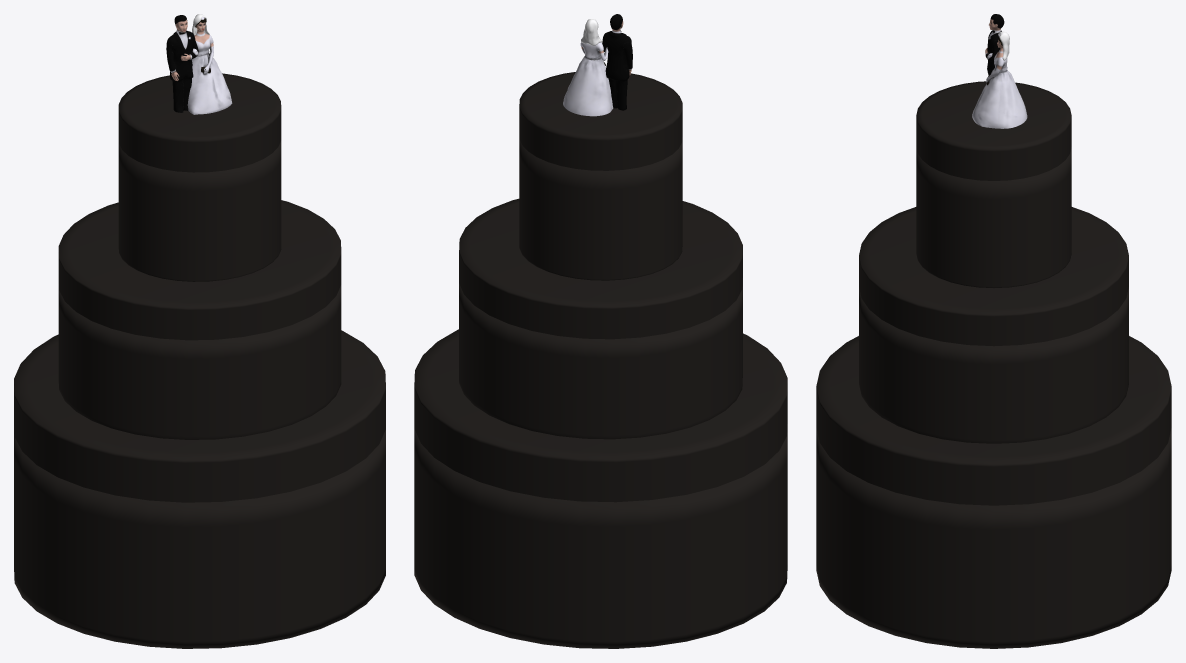
Rendered from 3-tier-black-none-bridegroom.glb.
3 views of the same model, side by side, from view 1: azimuth 30°, elevation 25°; view 2: azimuth 150°, elevation 25°; view 3: azimuth 270°, elevation 25° (orthographic). The views are drawn at different scales.
Visible parts, largest first — view 1: Cylinder.022, Cylinder.014, Cylinder.021, 13501_Cake_Topper_Bride_Groom_v1_L1.002; view 2: Cylinder.022, Cylinder.014, Cylinder.021, 13501_Cake_Topper_Bride_Groom_v1_L1.002; view 3: Cylinder.022, Cylinder.014, Cylinder.021, 13501_Cake_Topper_Bride_Groom_v1_L1.002.
Part boxes in pixels (<box>): Cylinder.022: <box>14,330,385,648</box>; Cylinder.014: <box>58,200,341,439</box>; Cylinder.021: <box>118,73,281,281</box>; 13501_Cake_Topper_Bride_Groom_v1_L1.002: <box>166,14,232,114</box>; Cylinder.022: <box>414,329,787,648</box>; Cylinder.014: <box>459,198,742,439</box>; Cylinder.021: <box>519,72,682,280</box>; 13501_Cake_Topper_Bride_Groom_v1_L1.002: <box>563,14,632,116</box>; Cylinder.022: <box>816,336,1171,648</box>; Cylinder.014: <box>859,207,1128,443</box>; Cylinder.021: <box>916,81,1071,287</box>; 13501_Cake_Topper_Bride_Groom_v1_L1.002: <box>972,14,1027,128</box>.
Bounding box in the file's own units: 4.22 × 6.91 × 4.06.
2 materials, 1 textured.
